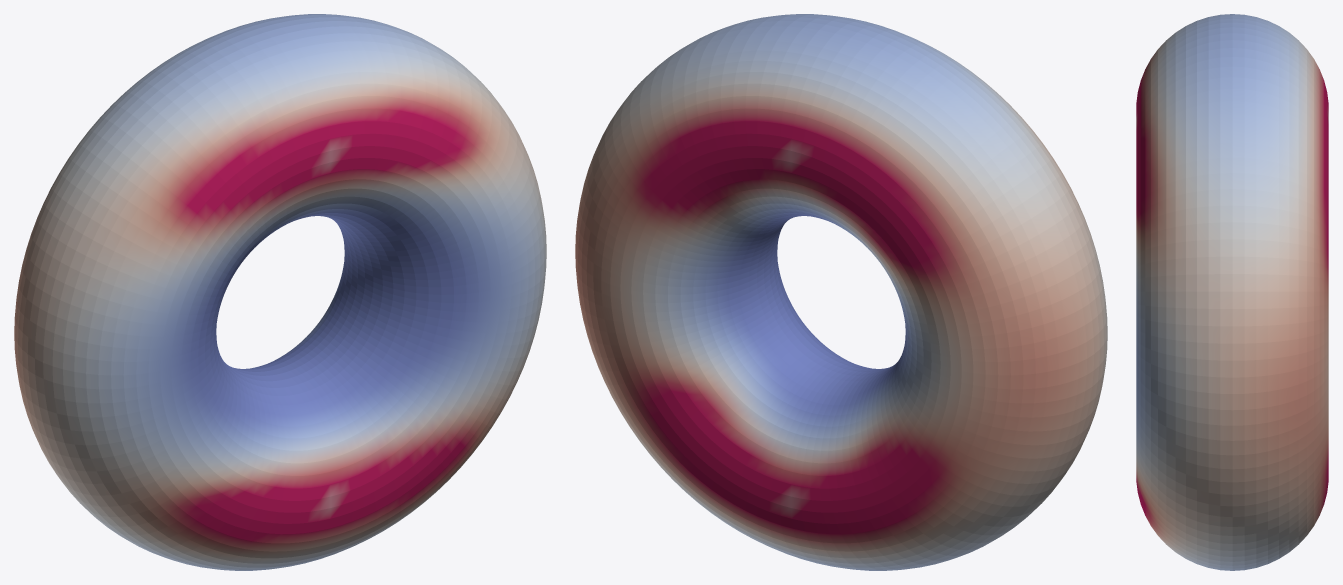
The picture shows the model from 3 angles, left to right: view 1: azimuth 30°, elevation 25°; view 2: azimuth 150°, elevation 25°; view 3: azimuth 270°, elevation 25°; orthographic projection. The views are drawn at different scales.
Visible parts, largest first — view 1: world; view 2: world; view 3: world.
Boxes of the visible parts, x1,y1,x2,y2 form: world: [14, 14, 546, 570]; world: [575, 14, 1107, 570]; world: [1136, 14, 1328, 570].
Size of the model in its own units: 20.4 by 20.4 by 7.05.
